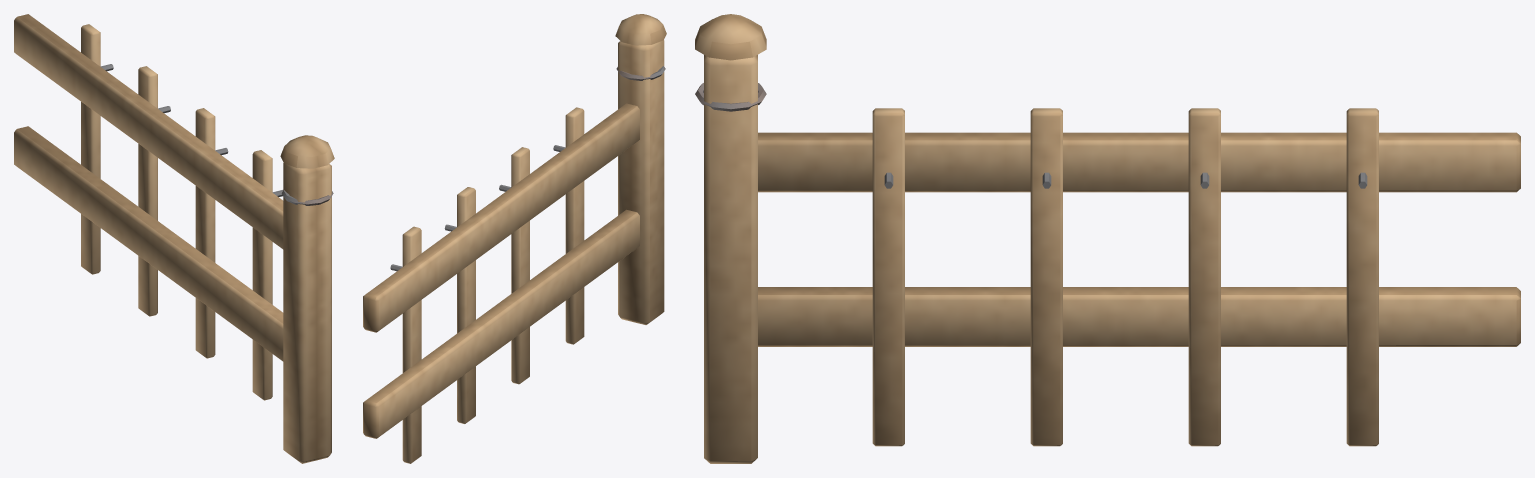
Rendered from fence_bay.gltf.
3 renders of one model, left to right at view 1: azimuth 30°, elevation 25°; view 2: azimuth 150°, elevation 25°; view 3: azimuth 270°, elevation 25°, orthographic. The views are drawn at different scales.
Parts seen in each view (by area): view 1: fence_bay; view 2: fence_bay; view 3: fence_bay.
Part boxes in pixels (x1,y1,x2,y2): fence_bay: (14,14,334,463); fence_bay: (363,14,666,463); fence_bay: (695,14,1520,463).
Size of the model in its own units: 0.255 by 1.35 by 2.3.
1 material, 1 textured.
